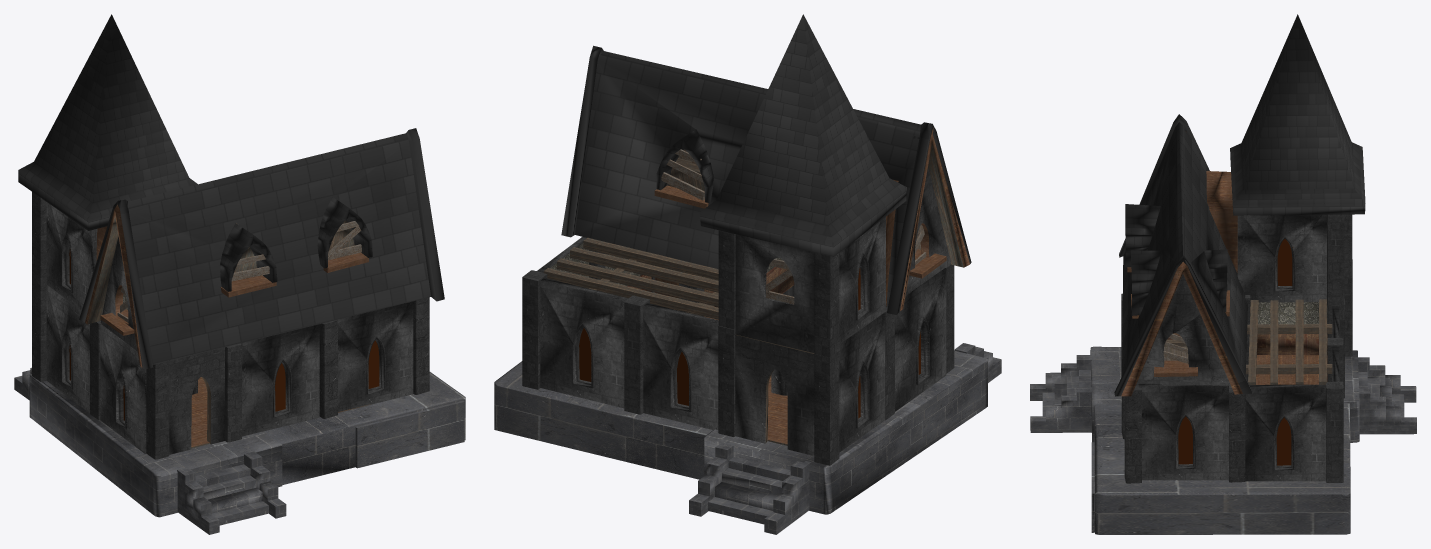
The model's file is KILLERHOUSE_.glb.
3 renders of one model, left to right at view 1: azimuth 30°, elevation 25°; view 2: azimuth 150°, elevation 25°; view 3: azimuth 270°, elevation 25°, orthographic. The views are drawn at different scales.
Parts seen in each view (by area): view 1: KILLERHOUSE; view 2: KILLERHOUSE; view 3: KILLERHOUSE.
Boxes of the visible parts, x1,y1,x2,y2 form: KILLERHOUSE: (14, 14, 465, 534); KILLERHOUSE: (494, 14, 1001, 534); KILLERHOUSE: (1030, 14, 1416, 534).
Size of what is drawn, in the model's own units: 20.15 by 25.36 by 22.16.
Materials: 10 (9 with a texture image).
